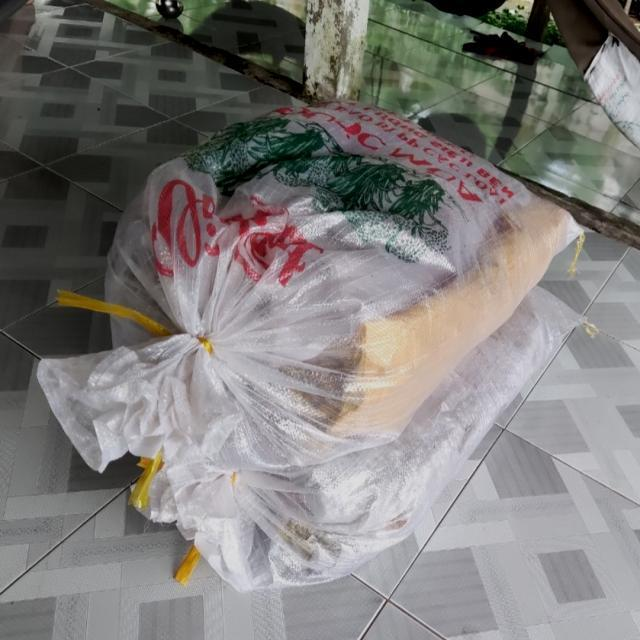gunny_bag: (56, 103, 579, 478), (145, 288, 581, 592), (37, 353, 108, 443)
